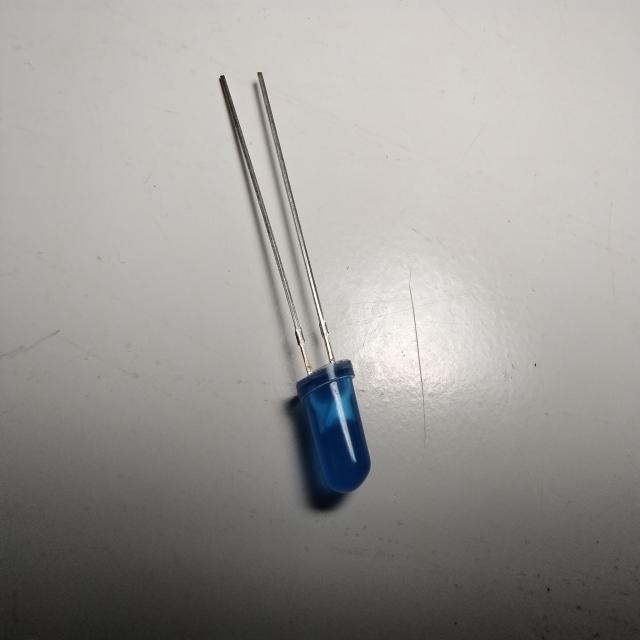blue_led: (294, 358, 372, 505)
